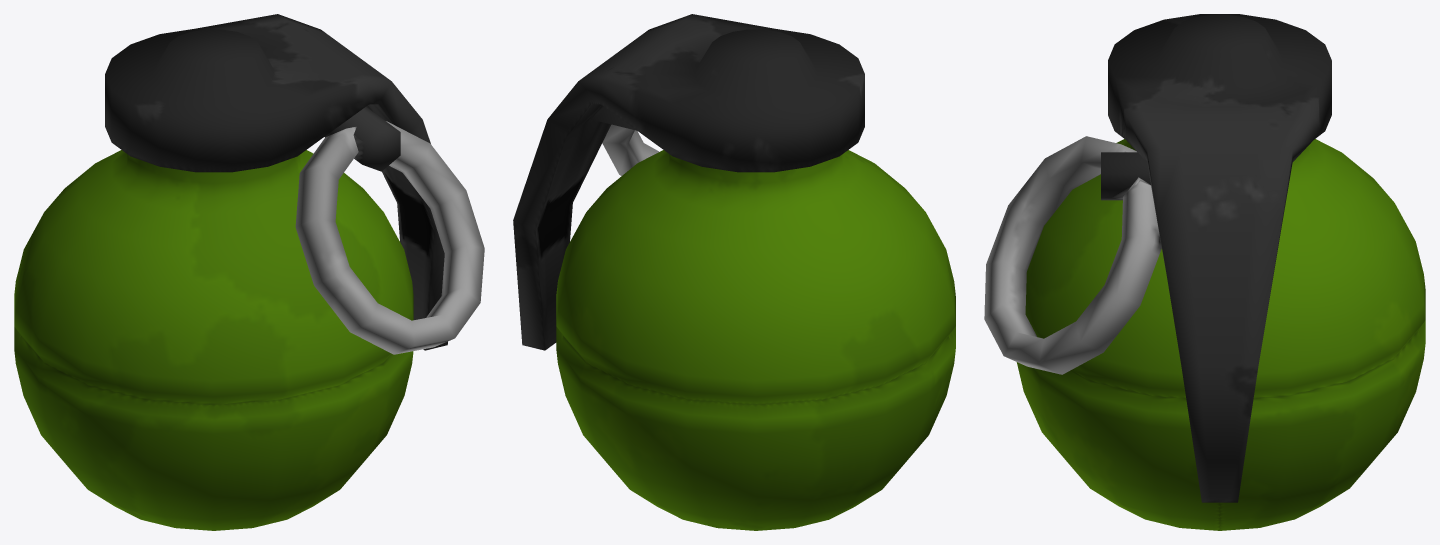
The model's file is LE_Grenade.fbx.
The picture shows the model from 3 angles, left to right: view 1: azimuth 30°, elevation 25°; view 2: azimuth 150°, elevation 25°; view 3: azimuth 270°, elevation 25°; orthographic projection. The views are drawn at different scales.
Parts seen in each view (by area): view 1: LE_Grenade; view 2: LE_Grenade; view 3: LE_Grenade.
Boxes of the visible parts, x1,y1,x2,y2 form: LE_Grenade: [14, 14, 484, 530]; LE_Grenade: [513, 14, 955, 530]; LE_Grenade: [984, 14, 1425, 530].
Bounding box in the file's own units: 1.45 × 1.52 × 1.34.
Materials: 1 (1 with a texture image).
